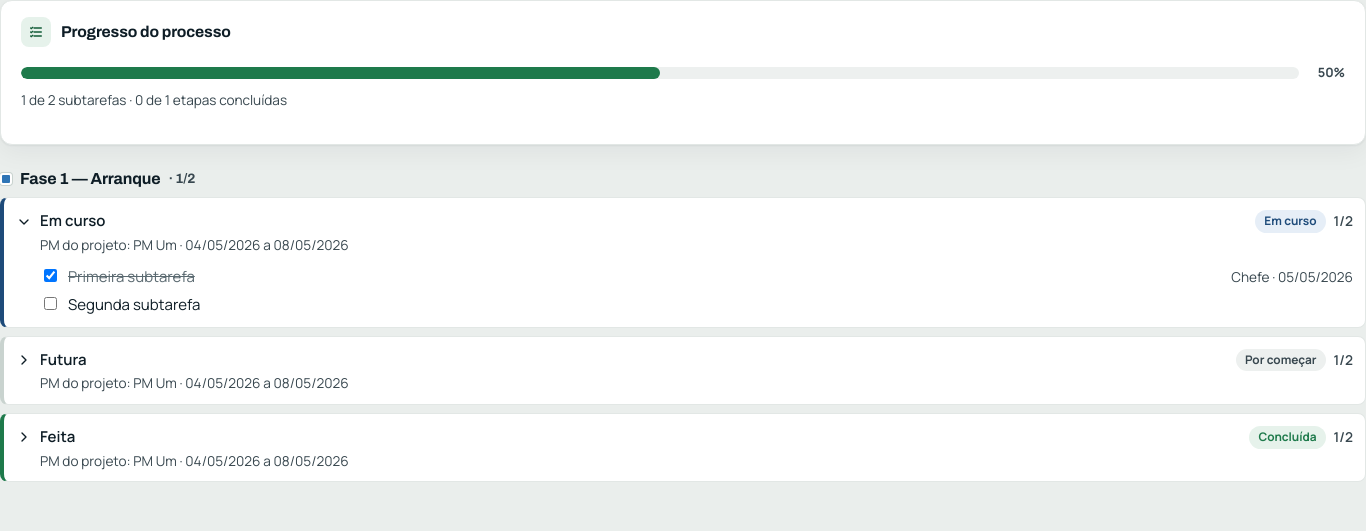
Test case: ProjectProcess › abre por omissão as etapas em curso ou em atraso e fecha as outras
The width and height of the screenshot is (1366, 531).
Expected: the heading "Fase 1 — Arranque · 1/2" is shown, x1=0 y1=170 x2=195 y2=187
Expected: the text "Primeira subtarefa" is shown, x1=68 y1=266 x2=195 y2=288
Click the button "Futura Por começar 1/2" at (63, 359), box x1=16 y1=340 x2=1353 y2=373
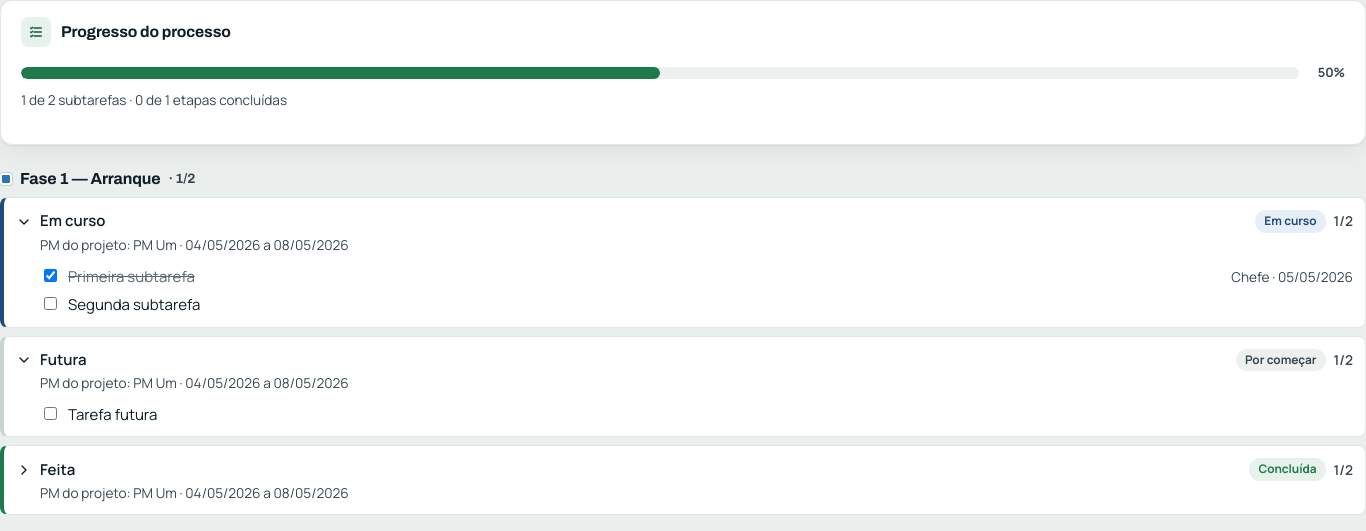
Expected: the text "Tarefa futura" is shown, x1=68 y1=404 x2=157 y2=426
Expected: the button "Futura Por começar 1/2" is expanded, x1=16 y1=340 x2=1353 y2=373
